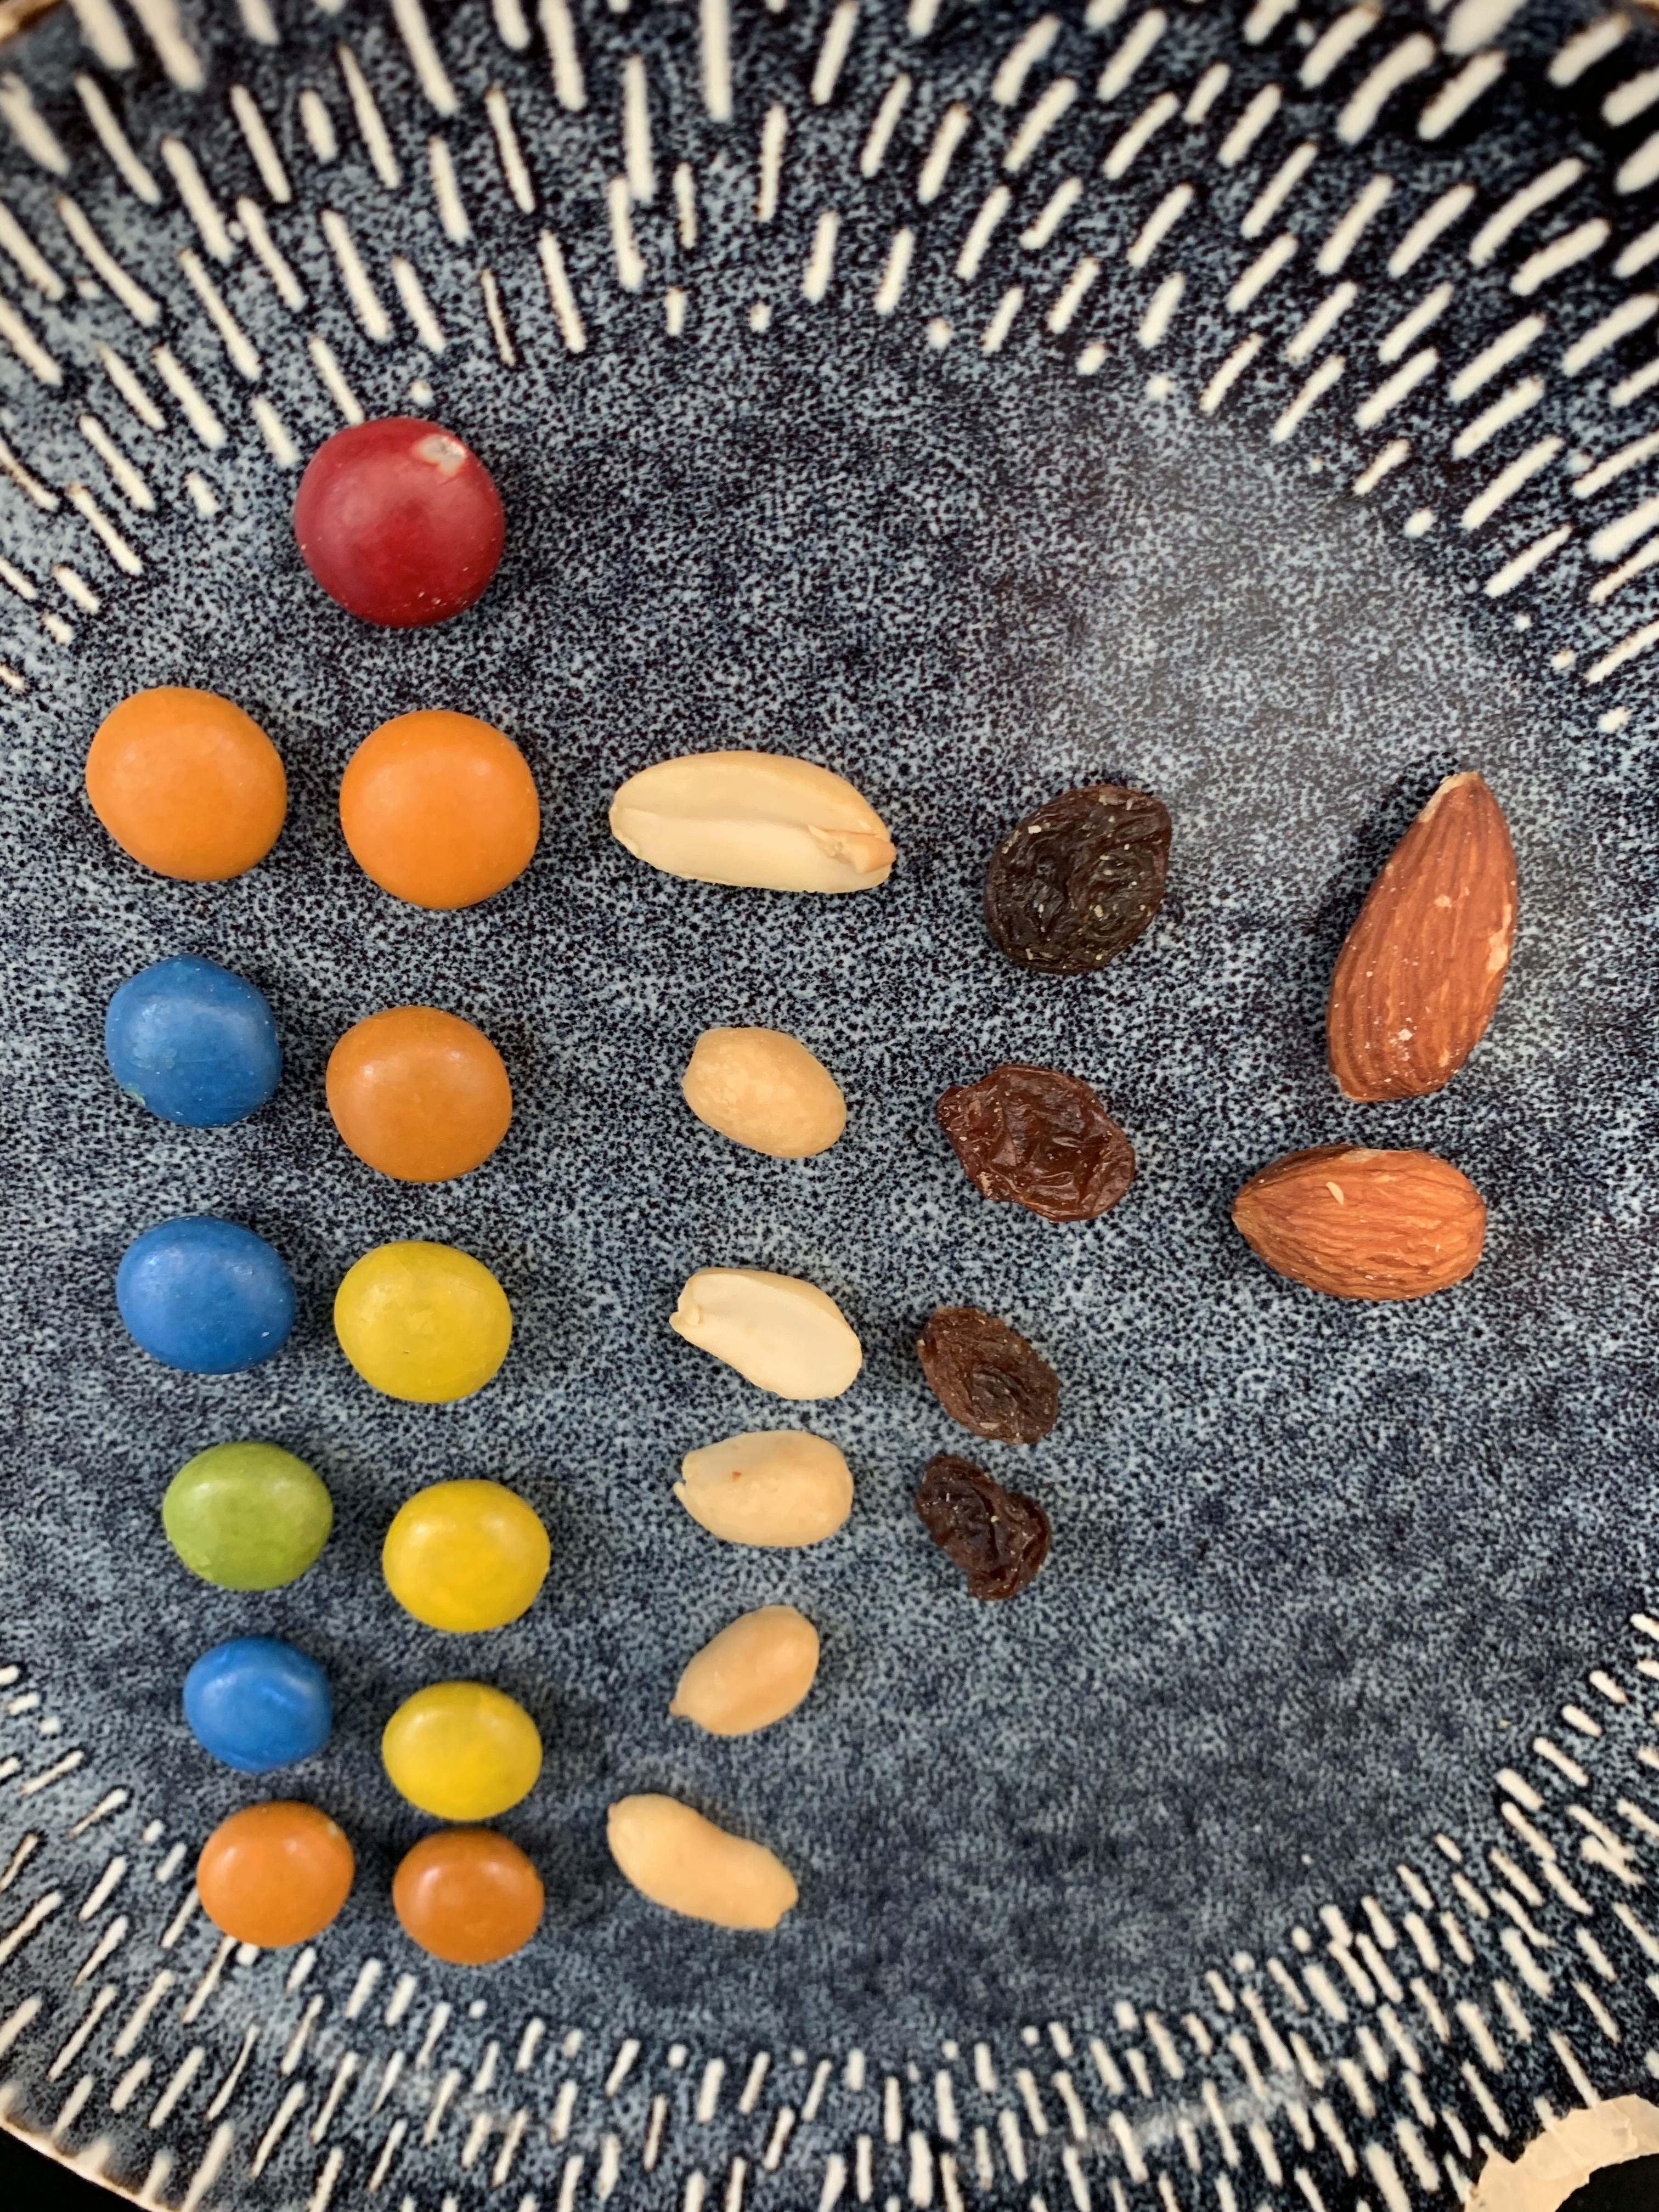almond: (1323, 768, 1521, 1111), (1230, 1141, 1492, 1305)
mm: (288, 416, 505, 632), (338, 707, 542, 913), (85, 683, 289, 887), (324, 1001, 516, 1183), (105, 954, 282, 1129), (329, 1240, 514, 1406), (117, 1216, 296, 1374), (380, 1477, 551, 1634), (162, 1439, 335, 1594), (195, 1799, 356, 1952), (380, 1677, 542, 1822), (392, 1827, 545, 1966), (183, 1637, 333, 1778)
peanut: (608, 749, 896, 909), (603, 1791, 800, 1939), (666, 1263, 864, 1404), (681, 1024, 849, 1163), (667, 1428, 854, 1550), (666, 1604, 821, 1738)
raisin: (981, 779, 1178, 986), (931, 1062, 1140, 1223), (911, 1449, 1051, 1609), (915, 1303, 1061, 1444)
